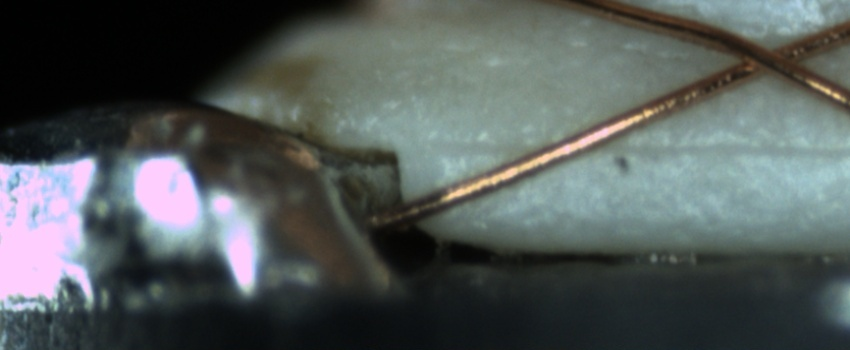CL: (714, 26, 818, 86)
DL: (435, 119, 850, 177)
